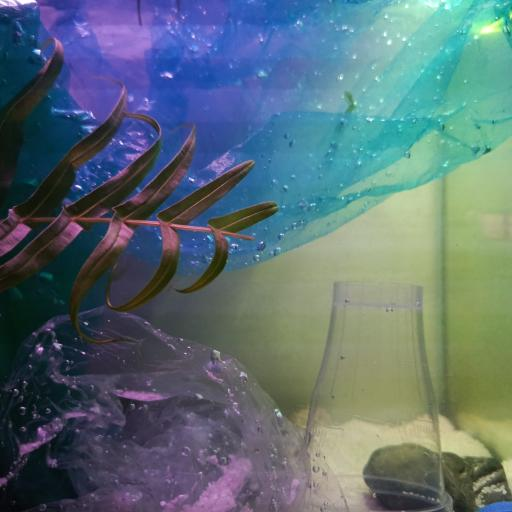plastic_bag: (78, 0, 512, 277), (0, 306, 350, 512), (0, 0, 117, 367)
plastic_cup: (306, 283, 454, 512)
